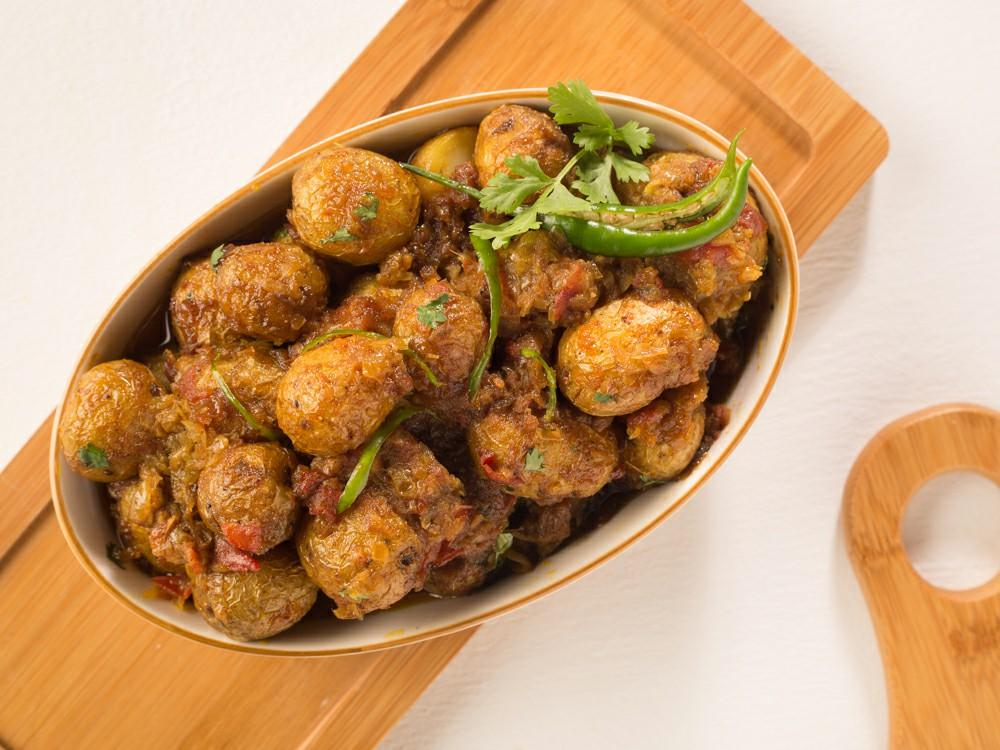DumAloo: (58, 100, 765, 646)
